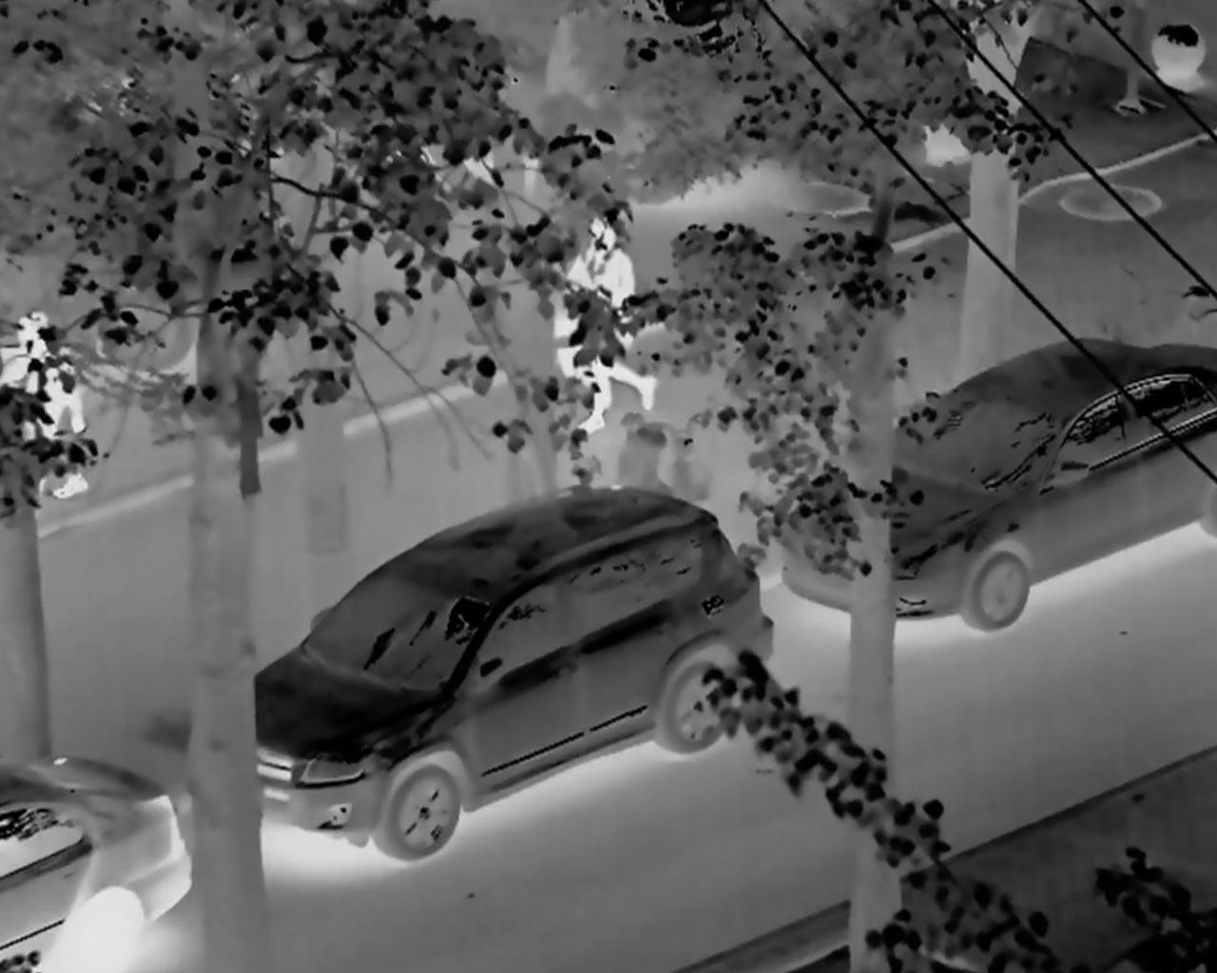person: (515, 192, 666, 461), (10, 290, 118, 524)
